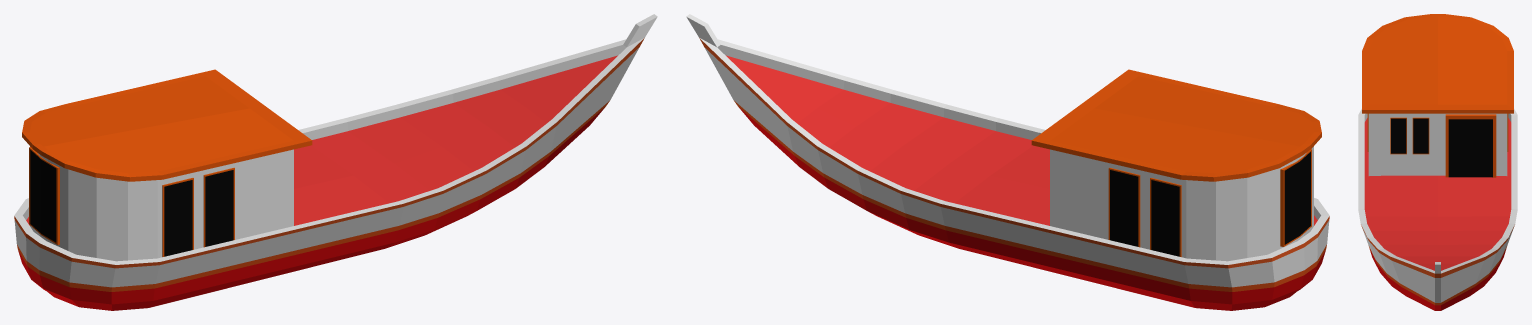
Rendered from Boat_01.fbx.
3 views of the same model, side by side, from view 1: azimuth 30°, elevation 25°; view 2: azimuth 150°, elevation 25°; view 3: azimuth 270°, elevation 25° (orthographic). The views are drawn at different scales.
Parts seen in each view (by area): view 1: Boat_01; view 2: Boat_01; view 3: Boat_01.
Part boxes in pixels (x1=…): Boat_01: x1=14, y1=14, x2=657, y2=310; Boat_01: x1=686, y1=14, x2=1329, y2=310; Boat_01: x1=1358, y1=14, x2=1517, y2=310.
Bounding box in the file's own units: 1271 × 302 × 360.
